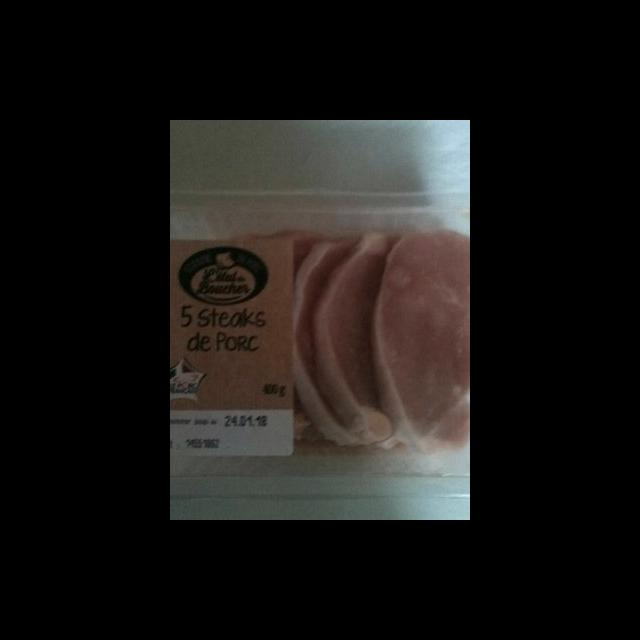beef: (379, 229, 470, 446), (294, 231, 384, 445)
